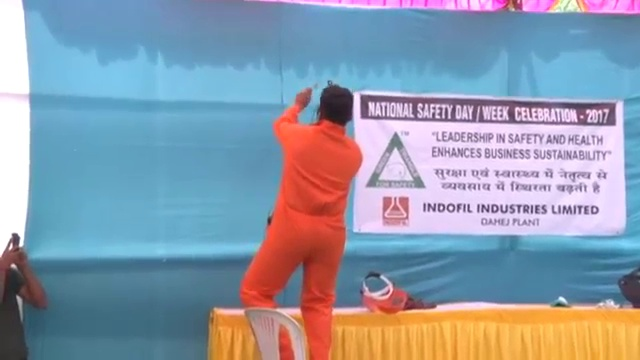helmet_off: (318, 84, 354, 128)
person: (239, 83, 364, 360), (1, 234, 48, 360)
